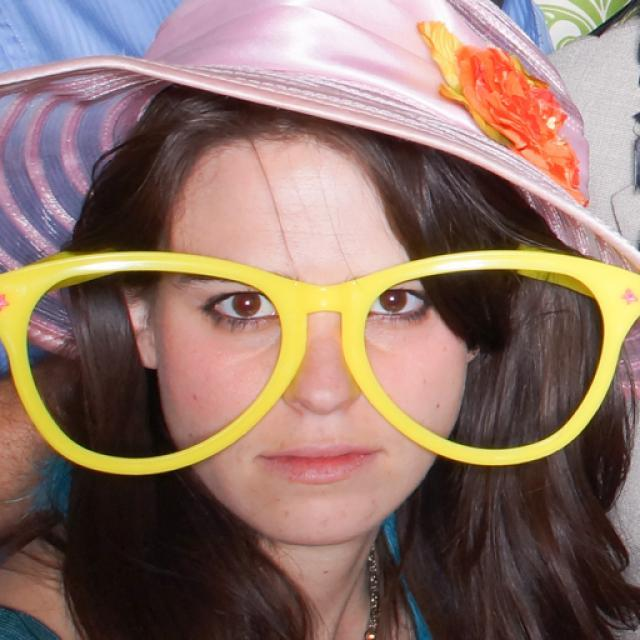neutral: (156, 138, 468, 542)
